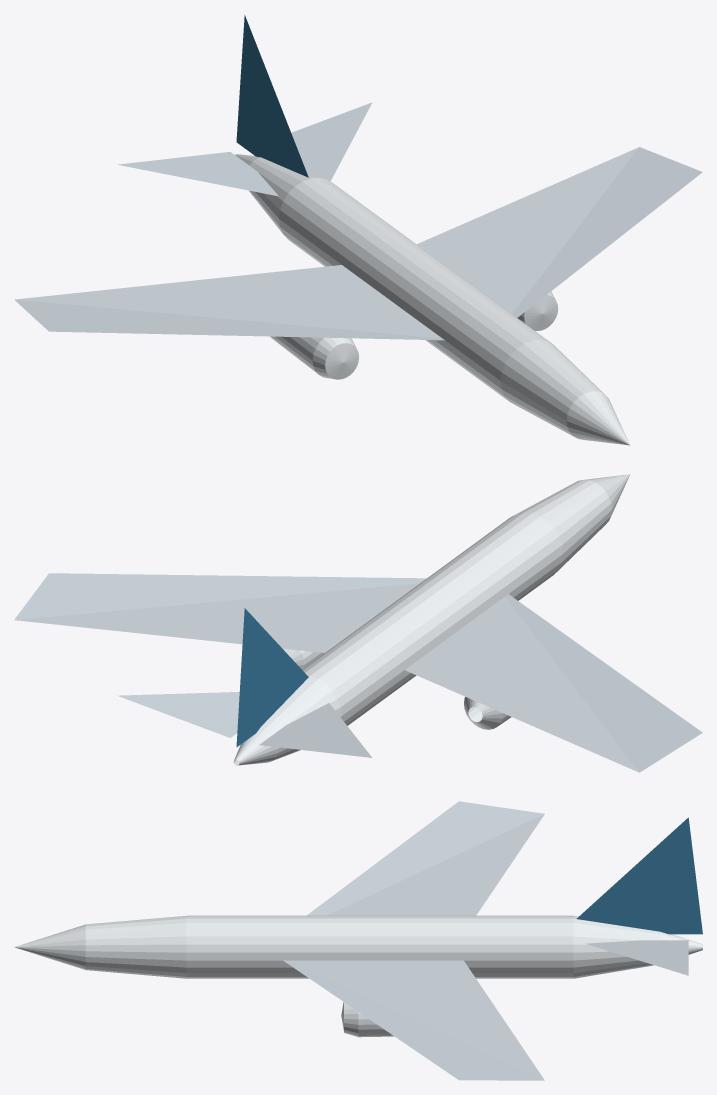
File: generic-aircraft.glb
3 views of the same model, one above another, from view 1: azimuth 30°, elevation 25°; view 2: azimuth 150°, elevation 25°; view 3: azimuth 270°, elevation 25° (orthographic). The views are drawn at different scales.
Bounding box in the file's own units: 46 × 13.5 × 48.
